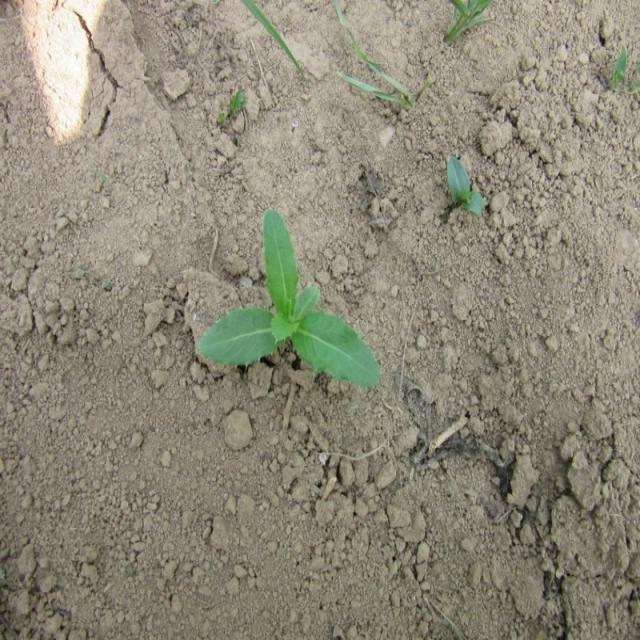field_thistle: (190, 190, 376, 433)
